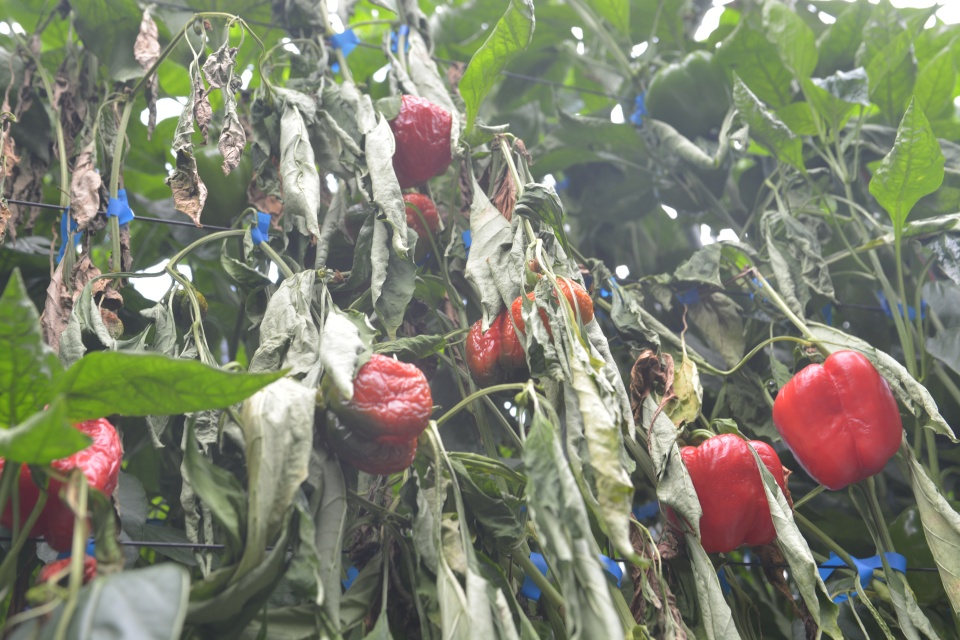fruit: (771, 349, 903, 492), (0, 403, 123, 553), (464, 272, 595, 397), (664, 432, 786, 555), (314, 352, 433, 477), (641, 47, 734, 142), (388, 92, 453, 192), (190, 141, 252, 228), (401, 190, 441, 264), (38, 553, 99, 584)
